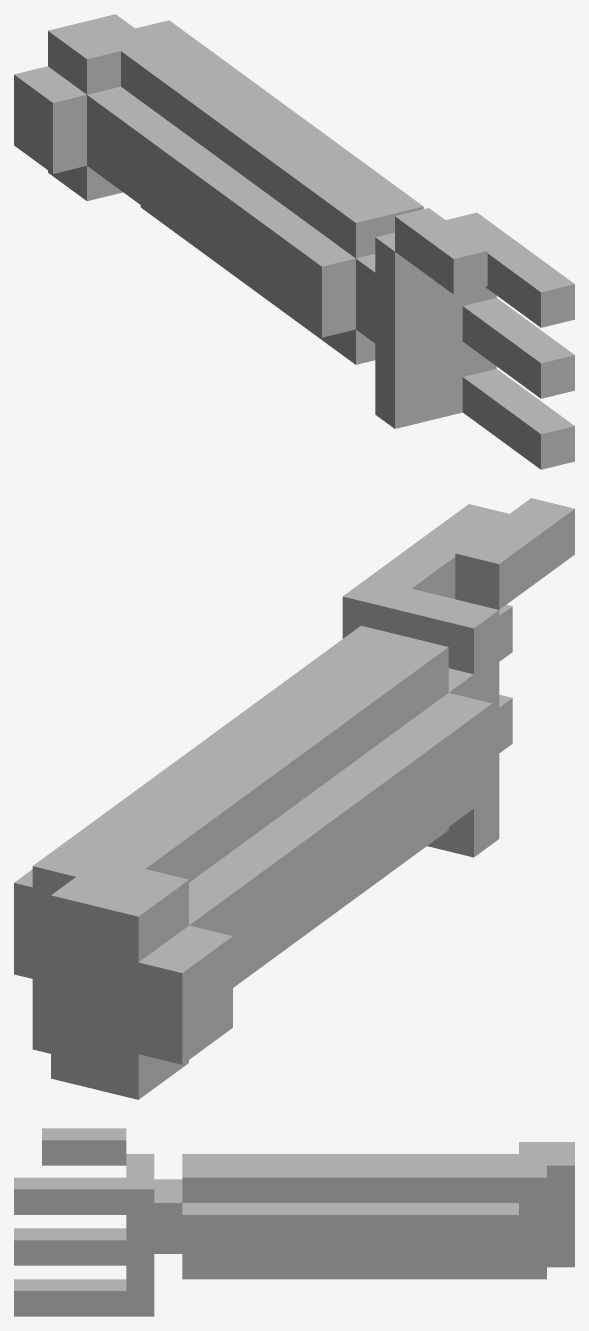
File: Garra Aberta.obj
3 renders of one model, top to bottom at view 1: azimuth 30°, elevation 25°; view 2: azimuth 150°, elevation 25°; view 3: azimuth 270°, elevation 25°, orthographic. The views are drawn at different scales.
Visible parts, largest first — view 1: Model; view 2: Model; view 3: Model.
Part boxes in pixels (bbox=[...]): Model: bbox=[14, 14, 574, 469]; Model: bbox=[14, 498, 574, 1099]; Model: bbox=[14, 1128, 574, 1316].
Size of the model in its own units: 8 by 9.6 by 32.
Materials: 1 (1 with a texture image).
